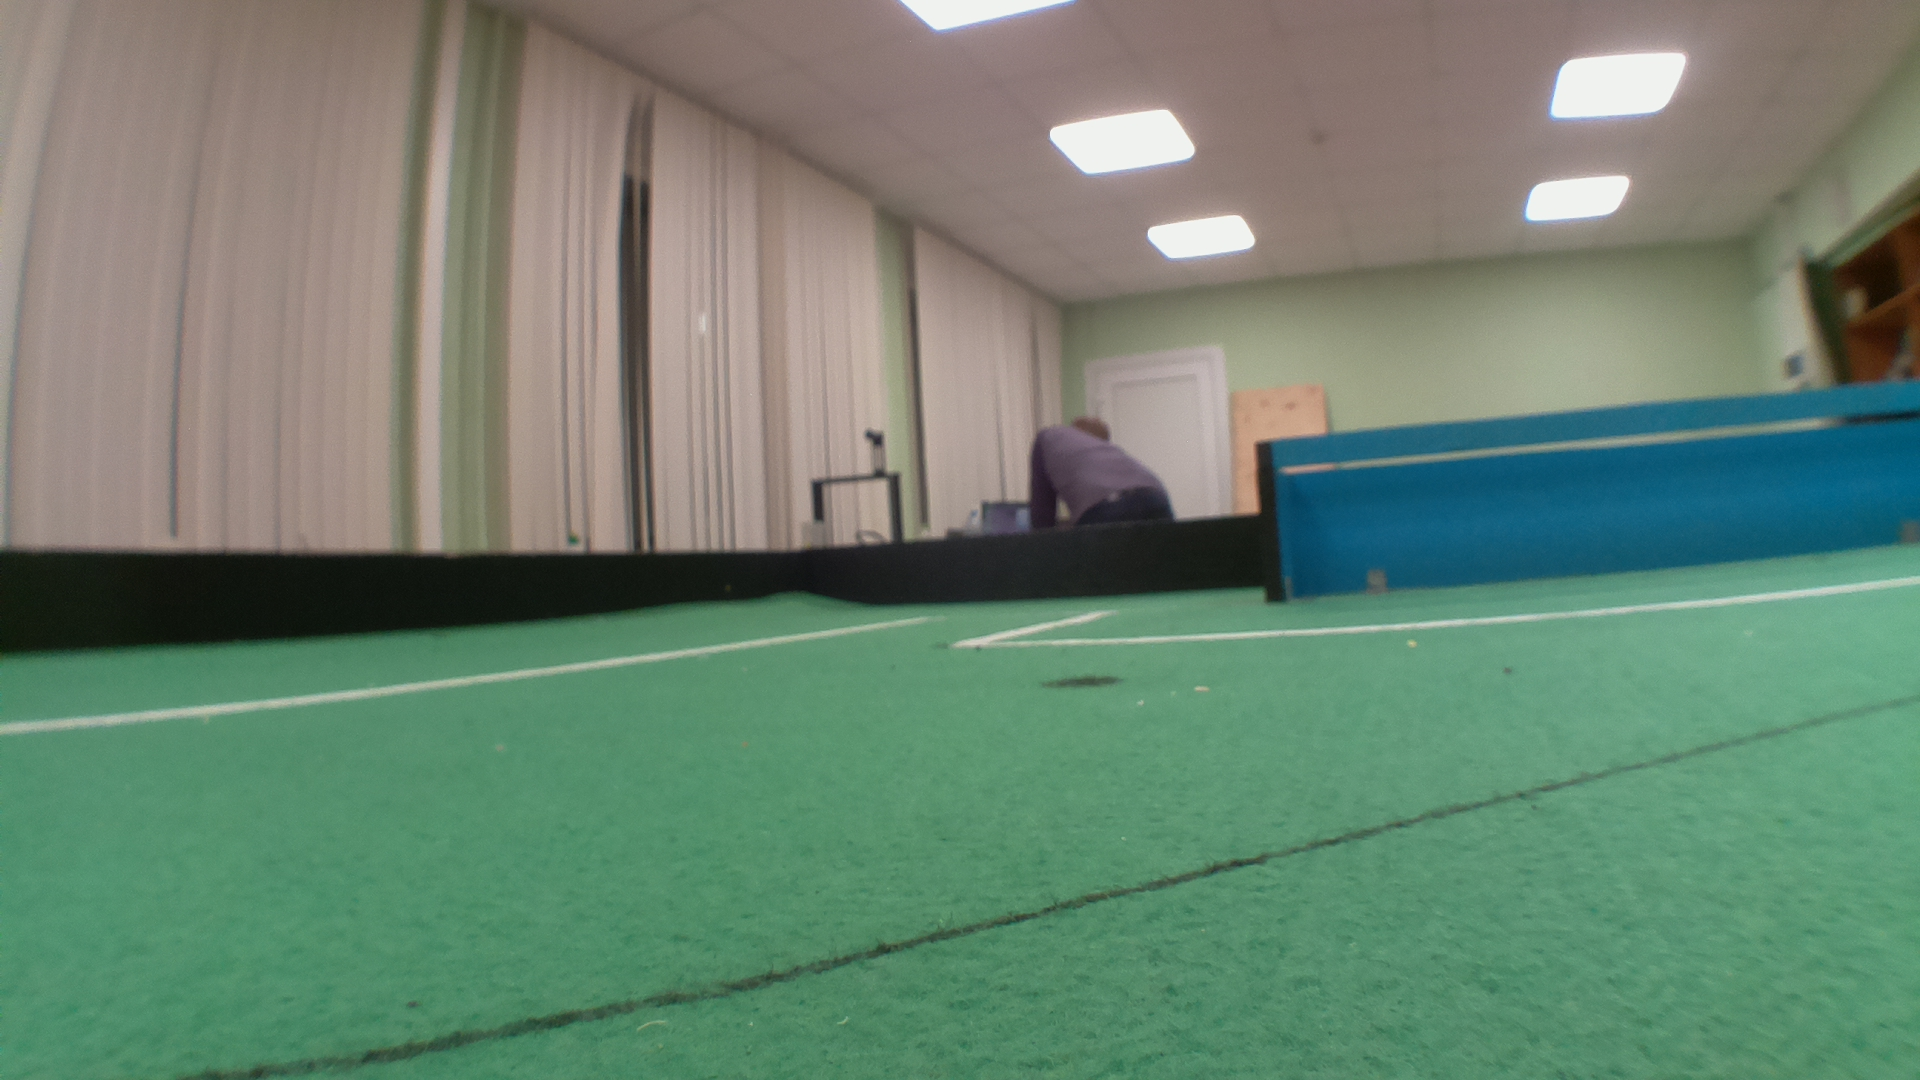BlueGoal: (1278, 381, 1917, 607)
